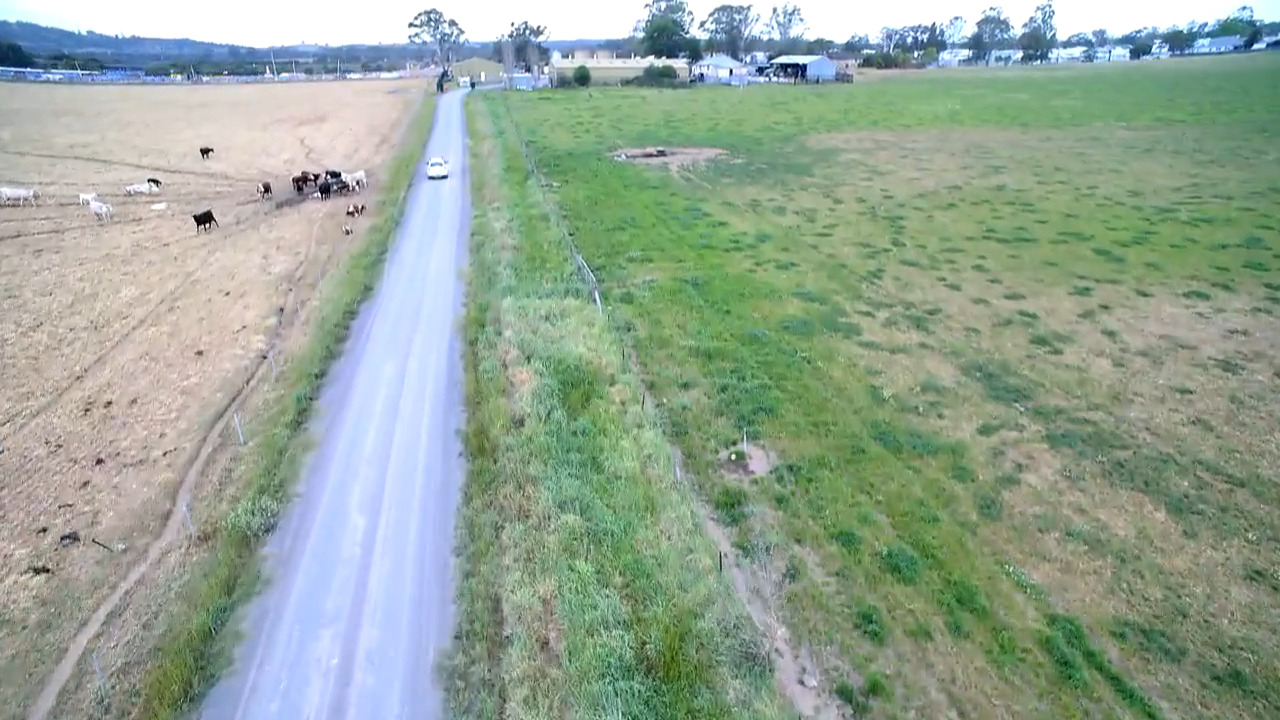Car: (427, 157, 449, 180)
